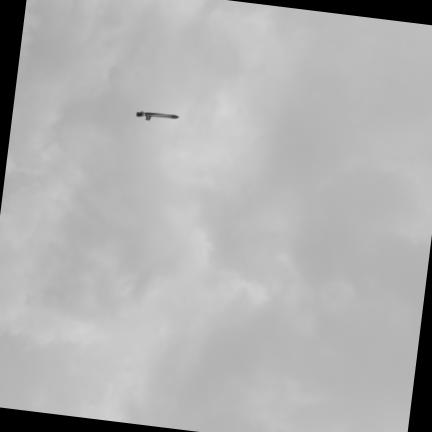Shahed: (135, 112, 177, 120)
